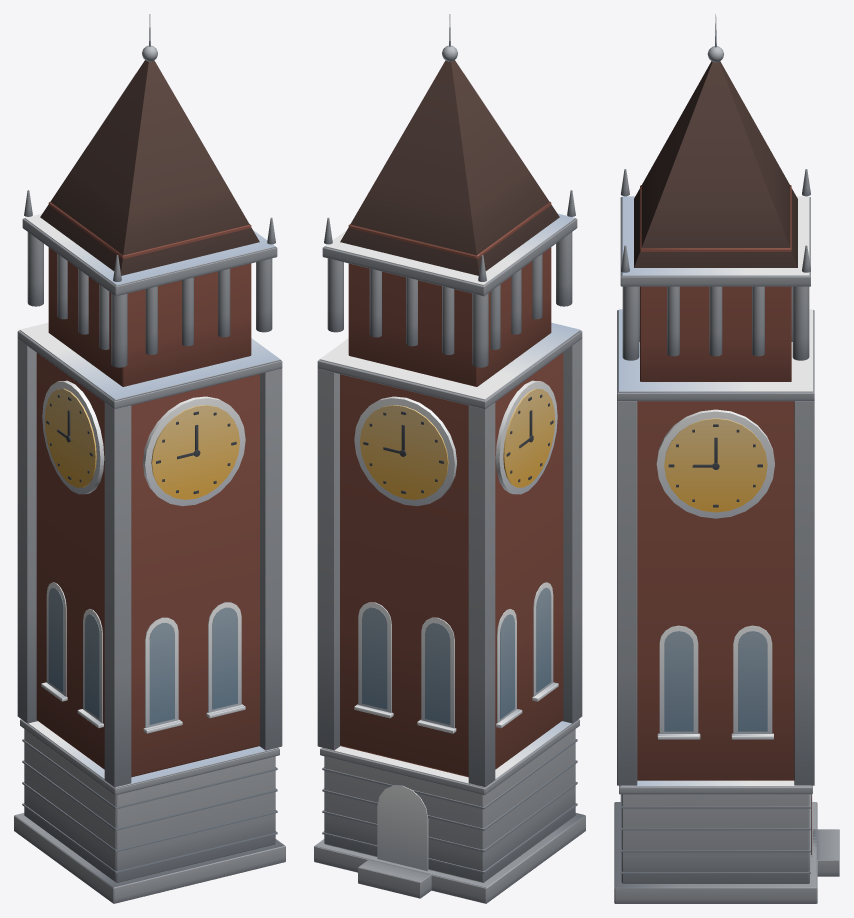
The model's file is ck_landmark_clock_tower.fbx.
3 renders of one model, left to right at view 1: azimuth 30°, elevation 25°; view 2: azimuth 150°, elevation 25°; view 3: azimuth 270°, elevation 25°, orthographic.
Visible parts, largest first — view 1: ck_landmark_clock_tower; view 2: ck_landmark_clock_tower; view 3: ck_landmark_clock_tower.
Boxes of the visible parts, left/top/right/bottom form: ck_landmark_clock_tower: left=14, top=14, right=285, bottom=903; ck_landmark_clock_tower: left=314, top=14, right=585, bottom=903; ck_landmark_clock_tower: left=614, top=14, right=839, bottom=903.
Bounding box in the file's own units: 1304 × 6000 × 1447.
